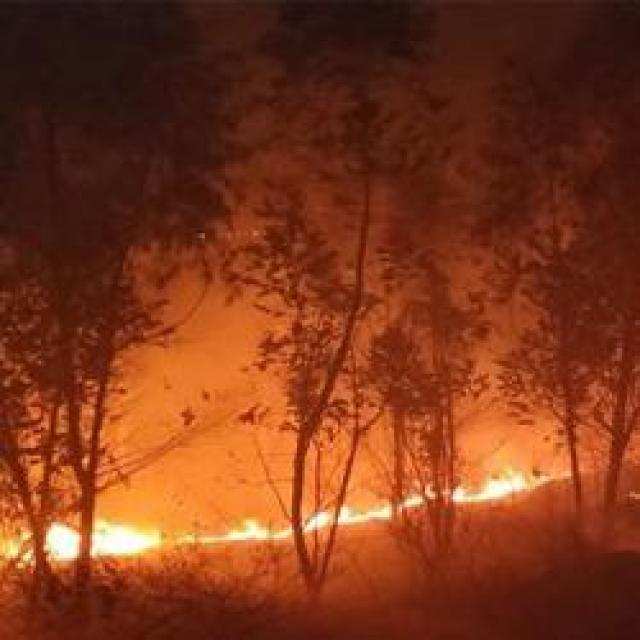Fire: (90, 523, 160, 555), (40, 518, 83, 565), (460, 472, 534, 499), (311, 504, 394, 525), (226, 520, 274, 541)
